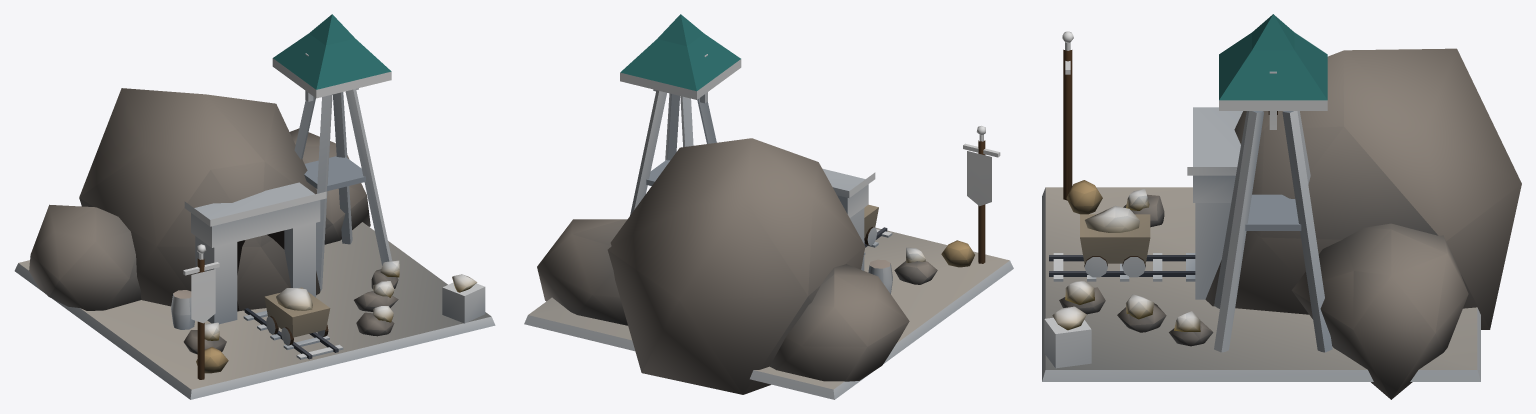
Rendered from goldmine_t4.glb.
3 renders of one model, left to right at view 1: azimuth 30°, elevation 25°; view 2: azimuth 150°, elevation 25°; view 3: azimuth 270°, elevation 25°, orthographic. The views are drawn at different scales.
Parts seen in each view (by area): view 1: goldmine_t4; view 2: goldmine_t4; view 3: goldmine_t4.
Part boxes in pixels (x1,y1,x2,y2): goldmine_t4: [14, 14, 495, 399]; goldmine_t4: [524, 14, 1013, 399]; goldmine_t4: [1042, 14, 1521, 399].
Bounding box in the file's own units: 2.04 × 1.63 × 2.03.
